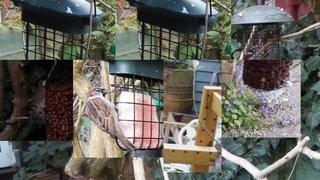mouse: (29, 86, 46, 120)
sparrow: (85, 86, 137, 153)
